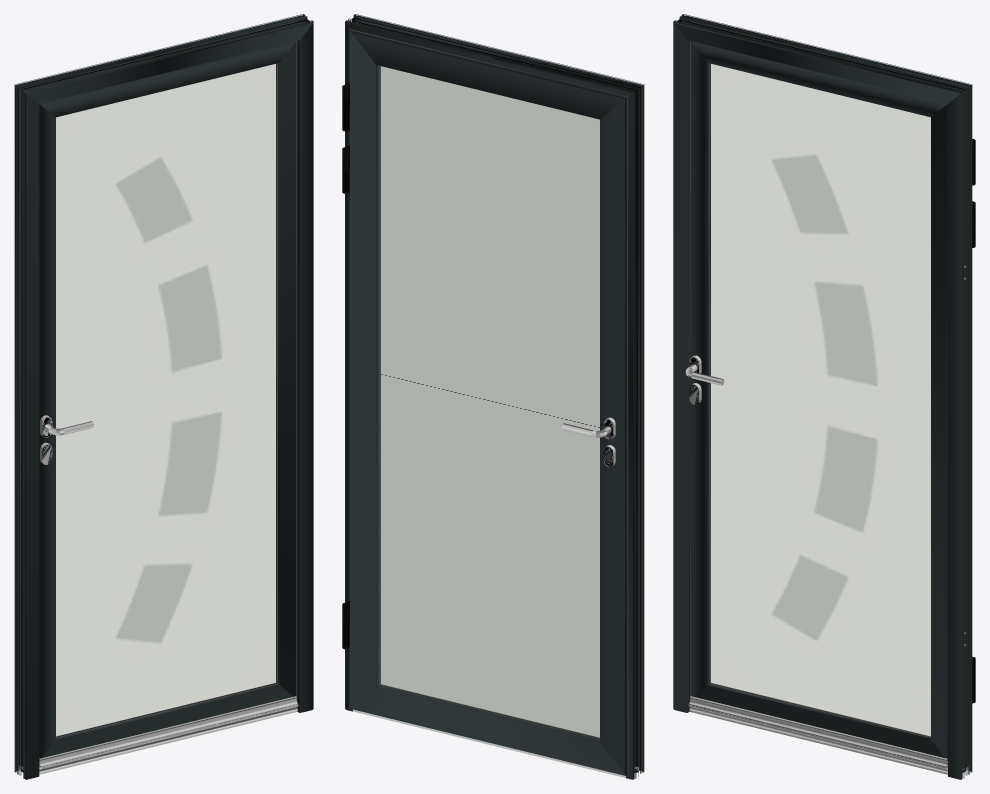
3 views of the same model, side by side, from view 1: azimuth 30°, elevation 25°; view 2: azimuth 150°, elevation 25°; view 3: azimuth 330°, elevation 25° (orthographic).
Parts seen in each view (by area): view 1: ouvrant, 30_architect; view 2: ouvrant, 30_architect; view 3: ouvrant, 30_architect.
Part boxes in pixels (box(x1,y1,x2,y2)): ouvrant: box(20, 21, 298, 768); 30_architect: box(14, 14, 313, 779); ouvrant: box(342, 29, 628, 776); 30_architect: box(342, 14, 644, 779); ouvrant: box(688, 21, 975, 768); 30_architect: box(673, 14, 975, 779).
Size of the model in its own units: 96 by 218 by 20.21.
1 material, 1 textured.
